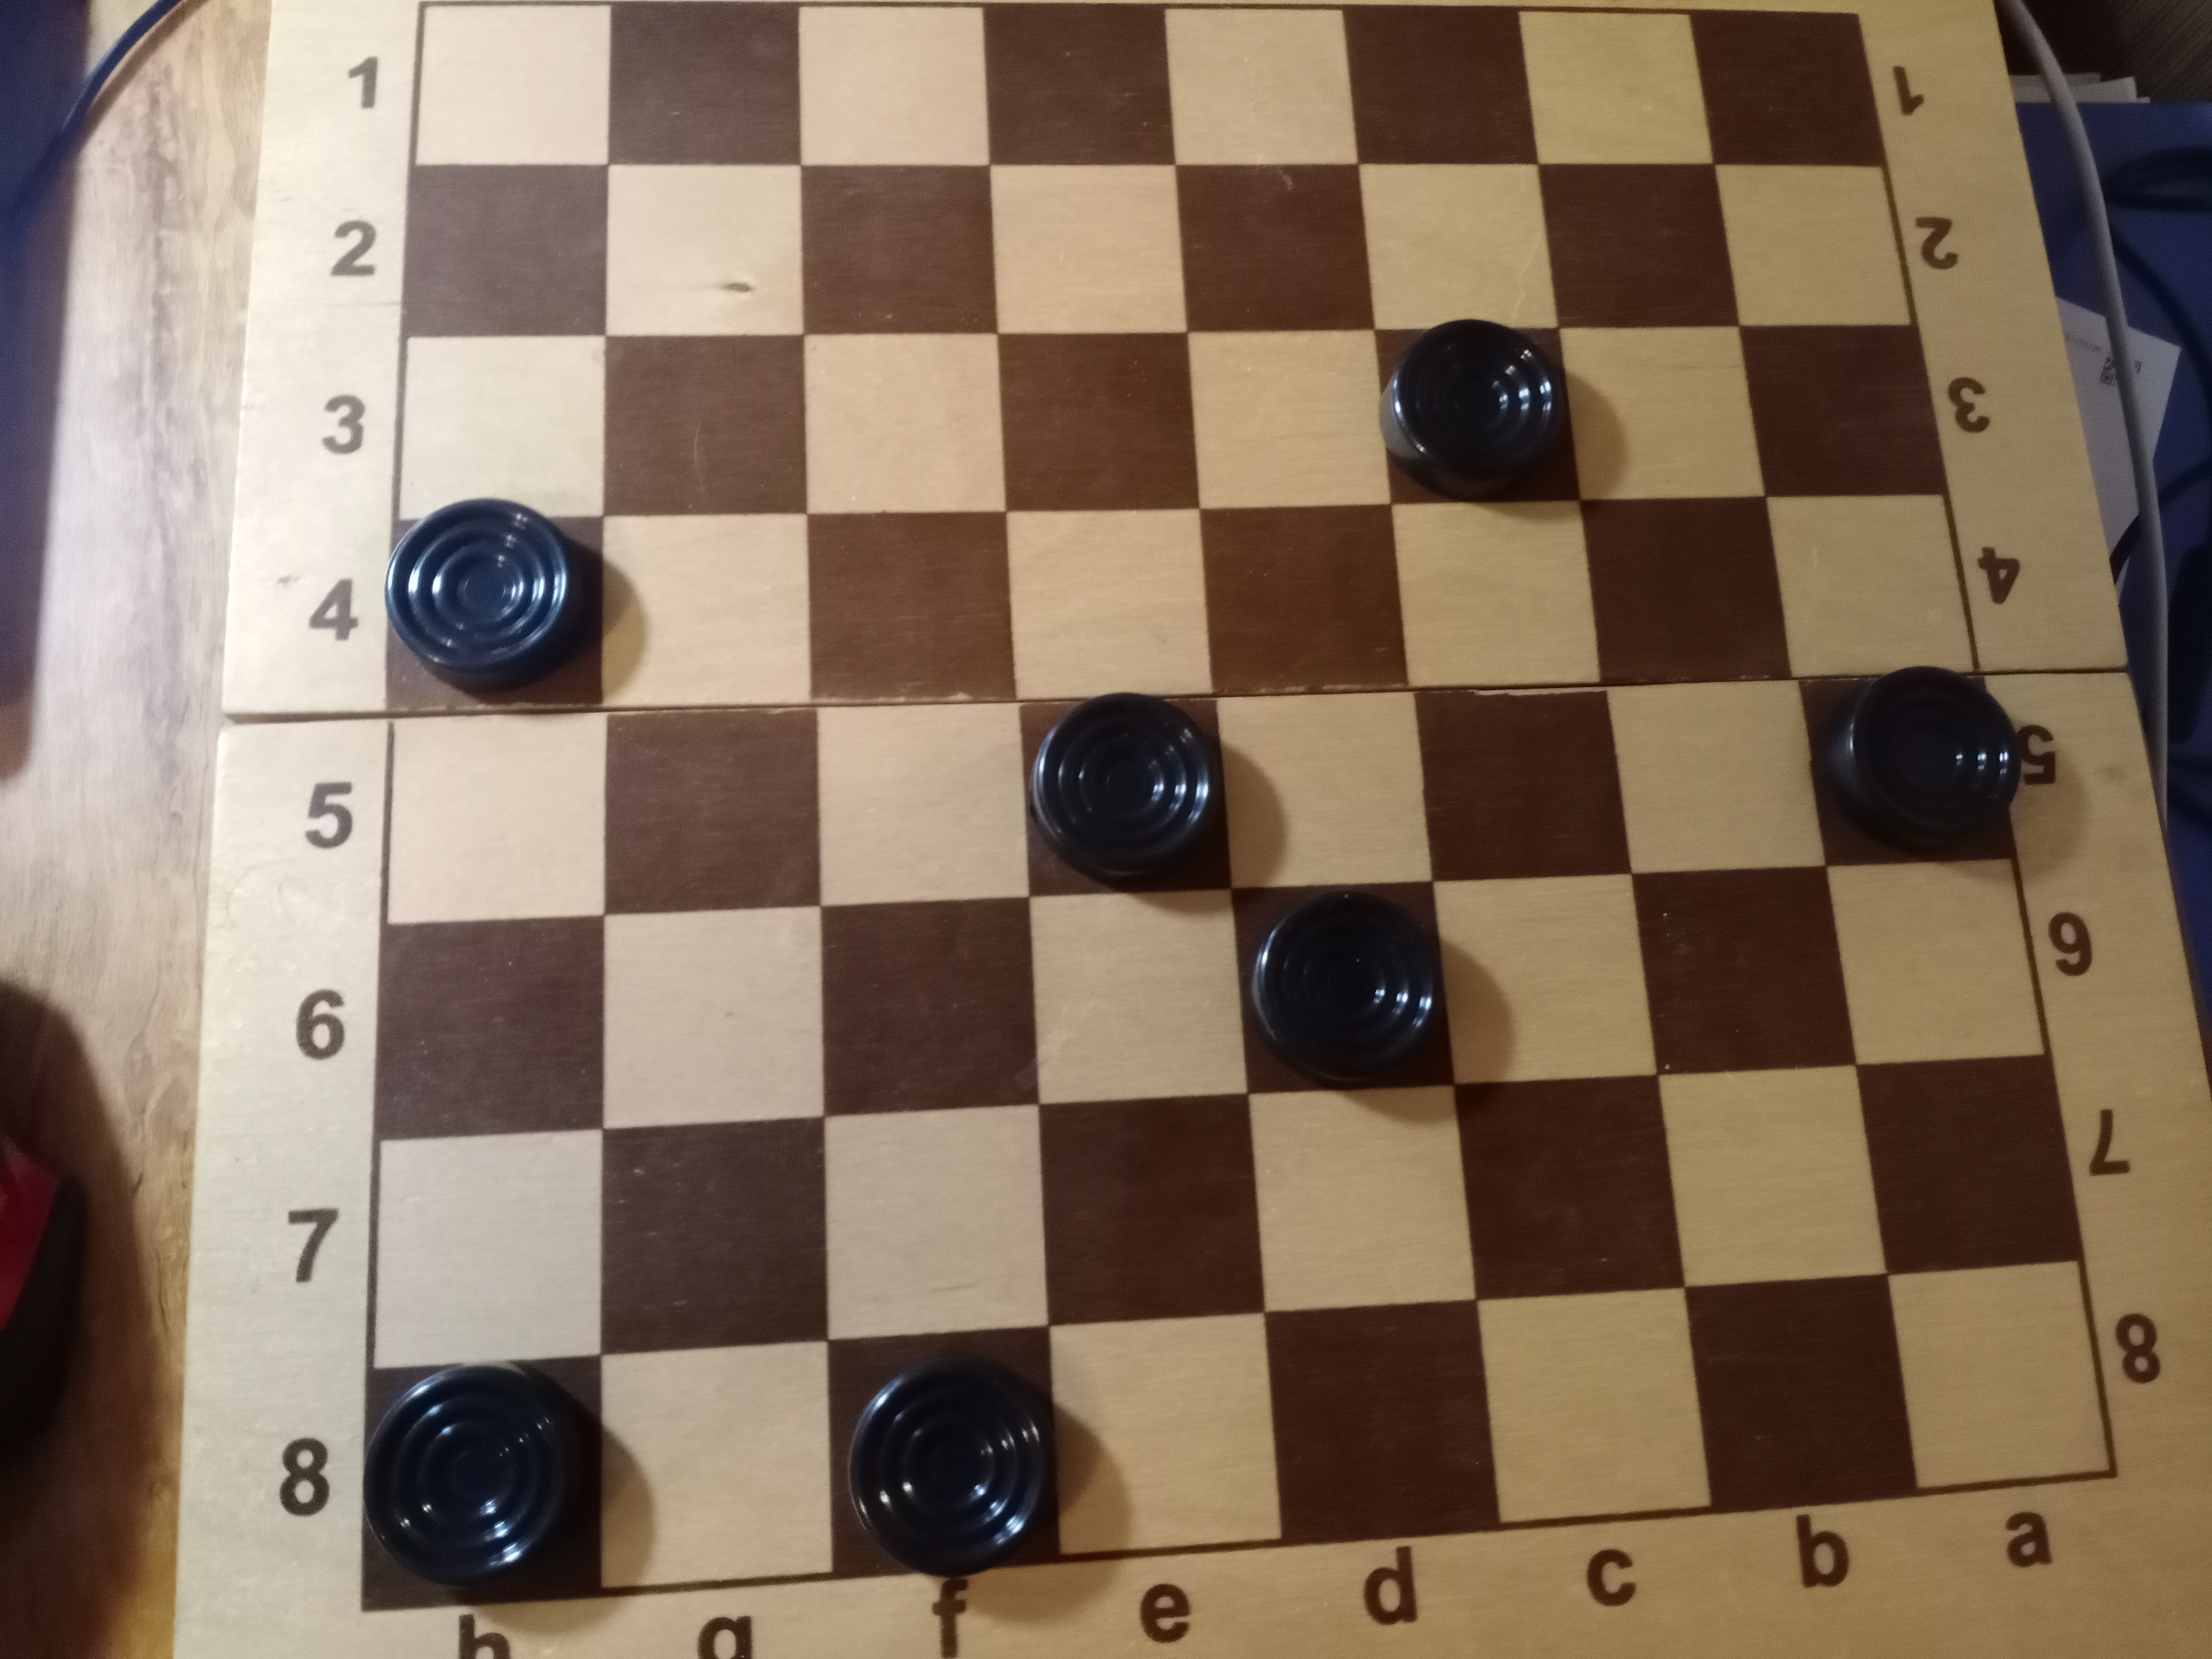Black_Draught: (362, 1356, 603, 1601), (827, 1326, 1061, 1579), (1231, 884, 1454, 1096), (385, 497, 604, 709), (1797, 667, 2022, 868), (1017, 694, 1231, 897), (1376, 319, 1580, 507)
